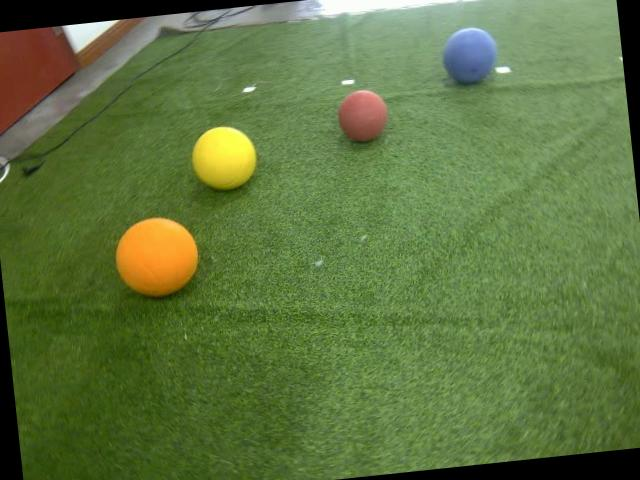blue_ball: (441, 25, 502, 86)
orange_ball: (110, 213, 204, 304)
red_ball: (336, 88, 391, 144)
yellow_ball: (188, 123, 260, 194)
